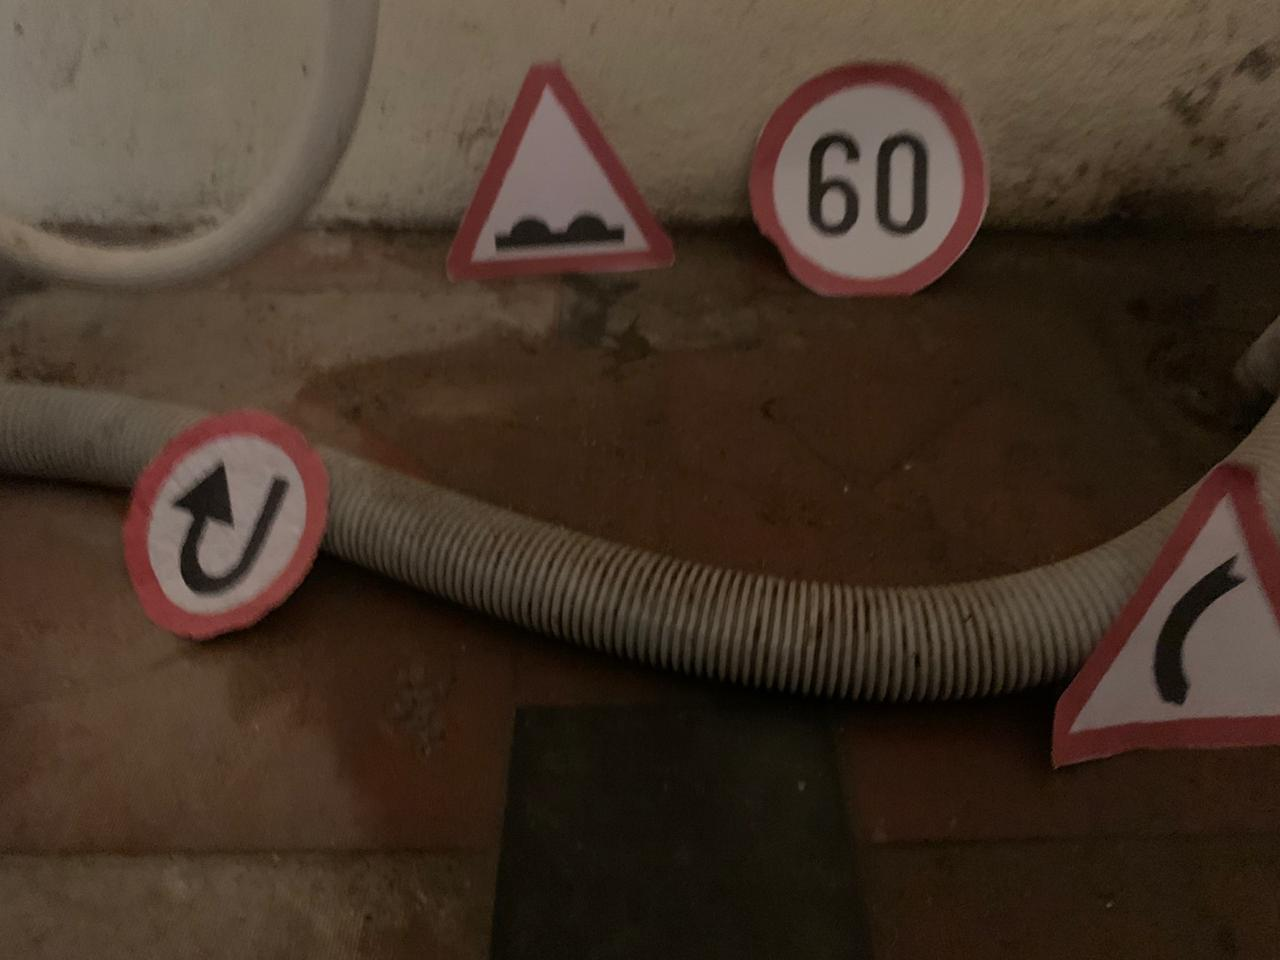LEFT CURVE: (1028, 447, 1280, 765)
SPEED LIMIT(60 KM/H): (747, 18, 1048, 309)
U-TURN: (116, 400, 328, 641)
UNEVEN ROAD: (438, 34, 710, 301)
